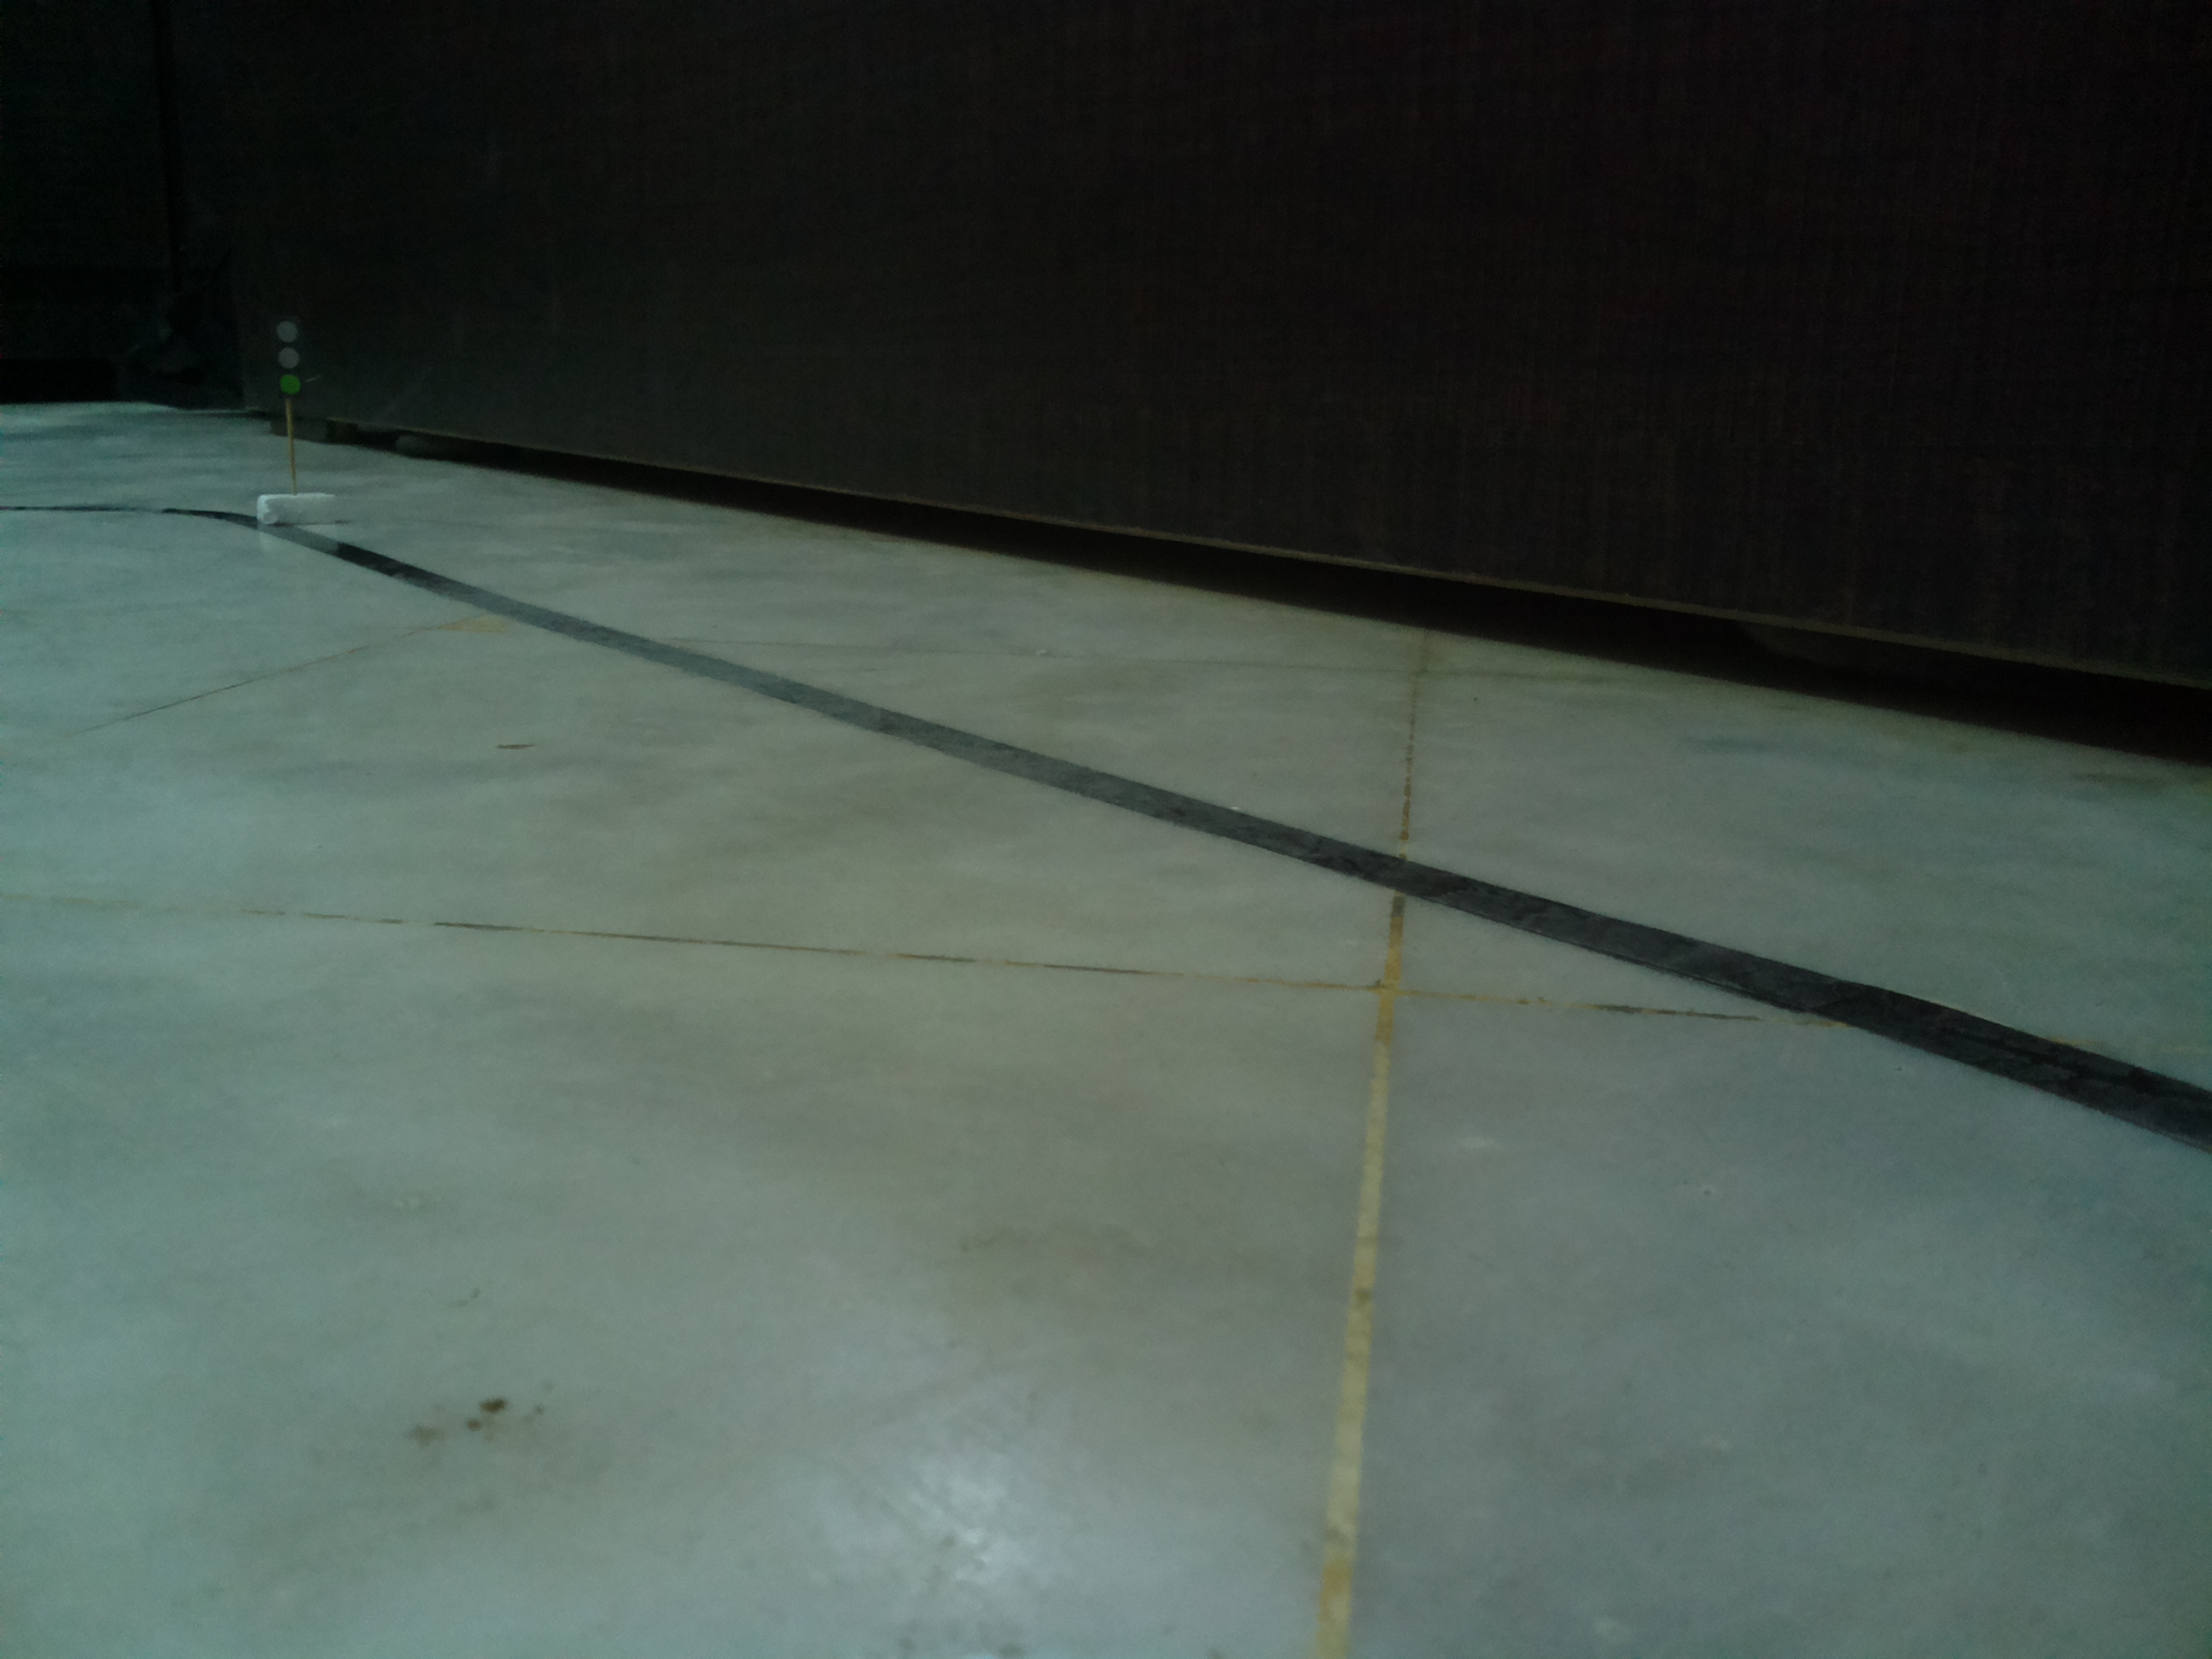Green traffic light: (266, 305, 310, 410)
